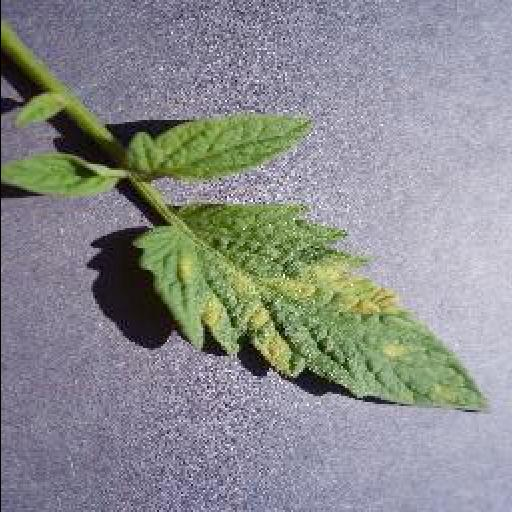disease_tomato: (131, 206, 493, 415)
